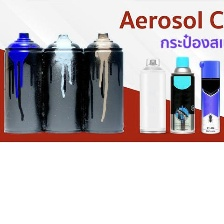aerosol_cans: (40, 30, 88, 135), (1, 29, 48, 135), (82, 30, 126, 135), (136, 56, 168, 135), (167, 54, 197, 135), (197, 57, 223, 135)
